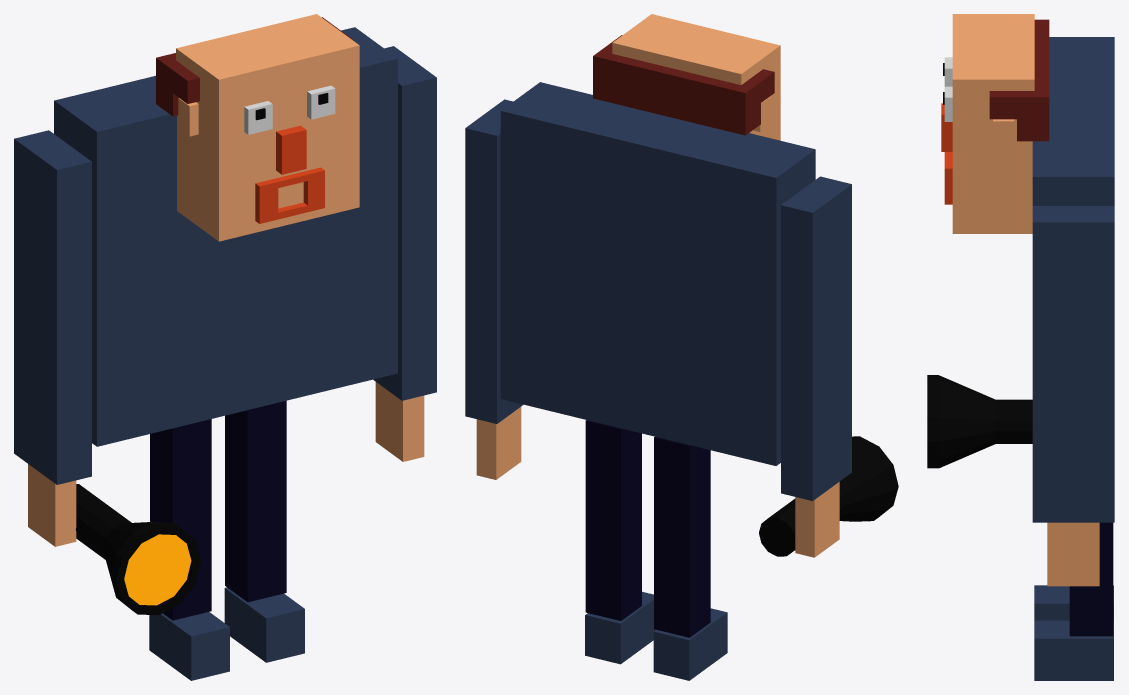
File: Man.glb
3 renders of one model, left to right at view 1: azimuth 30°, elevation 25°; view 2: azimuth 150°, elevation 25°; view 3: azimuth 270°, elevation 25°, orthographic. The views are drawn at different scales.
Visible parts, largest first — view 1: Cube, Cube.001, Cube.003, Cube.002, Cube.005, Cylinder, Cube.004, Cube.006, Cube.007, Cube.009, Cube.008, Cube.017 (+5 smaller); view 2: Cube, Cube.003, Cube.002, Cube.005, Cube.004, Cube.013, Cube.001, Cylinder, Cube.007, Cube.006, Cube.009, Cube.008; view 3: Cube.002, Cube.001, Cube, Cylinder, Cube.006, Cube.013, Cube.008, Cube.005, Cube.007, Cube.014, Cube.017, Cube.010 (+1 smaller).
Boxes of the visible parts, x1=… form: Cube: x1=54, y1=27, x2=397, y2=446; Cube.001: x1=176, y1=14, x2=359, y2=241; Cube.003: x1=14, y1=130, x2=91, y2=484; Cube.002: x1=373, y1=46, x2=436, y2=400; Cube.005: x1=225, y1=400, x2=286, y2=602; Cylinder: x1=75, y1=484, x2=201, y2=615; Cube.004: x1=150, y1=419, x2=211, y2=620; Cube.006: x1=224, y1=587, x2=304, y2=662; Cube.007: x1=149, y1=612, x2=229, y2=680; Cube.009: x1=28, y1=464, x2=76, y2=546; Cube.008: x1=375, y1=382, x2=424, y2=461; Cube.017: x1=255, y1=167, x2=324, y2=223; Cube: x1=500, y1=82, x2=815, y2=465; Cube.003: x1=781, y1=176, x2=851, y2=500; Cube.002: x1=465, y1=99, x2=523, y2=423; Cube.005: x1=585, y1=420, x2=641, y2=620; Cube.004: x1=654, y1=436, x2=710, y2=637; Cube.013: x1=593, y1=35, x2=774, y2=135; Cube.001: x1=612, y1=14, x2=780, y2=140; Cylinder: x1=759, y1=436, x2=898, y2=556; Cube.007: x1=653, y1=608, x2=727, y2=680; Cube.006: x1=585, y1=591, x2=655, y2=664; Cube.009: x1=795, y1=482, x2=839, y2=557; Cube.008: x1=476, y1=407, x2=521, y2=479; Cube.002: x1=1032, y1=206, x2=1114, y2=522; Cube.001: x1=952, y1=14, x2=1034, y2=233; Cube: x1=1032, y1=37, x2=1114, y2=205; Cylinder: x1=927, y1=375, x2=1032, y2=468; Cube.006: x1=1034, y1=620, x2=1113, y2=680; Cube.013: x1=989, y1=19, x2=1049, y2=141; Cube.008: x1=1047, y1=522, x2=1099, y2=586; Cube.005: x1=1069, y1=522, x2=1113, y2=636; Cube.007: x1=1034, y1=585, x2=1113, y2=620; Cube.014: x1=993, y1=119, x2=1014, y2=150; Cube.017: x1=944, y1=152, x2=952, y2=204; Cube.010: x1=941, y1=103, x2=952, y2=151.
Bounding box in the file's own units: 2.58 × 4.13 × 1.15.
